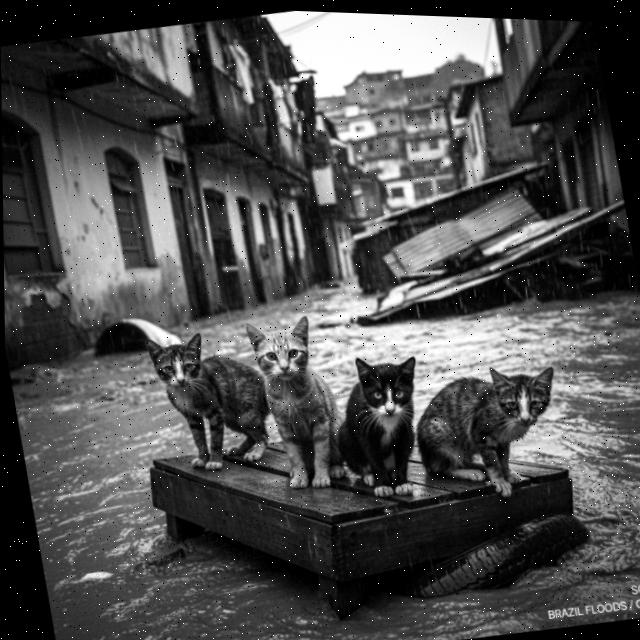cat: (408, 345, 582, 513), (125, 316, 283, 487), (311, 338, 449, 517), (240, 309, 354, 503)
